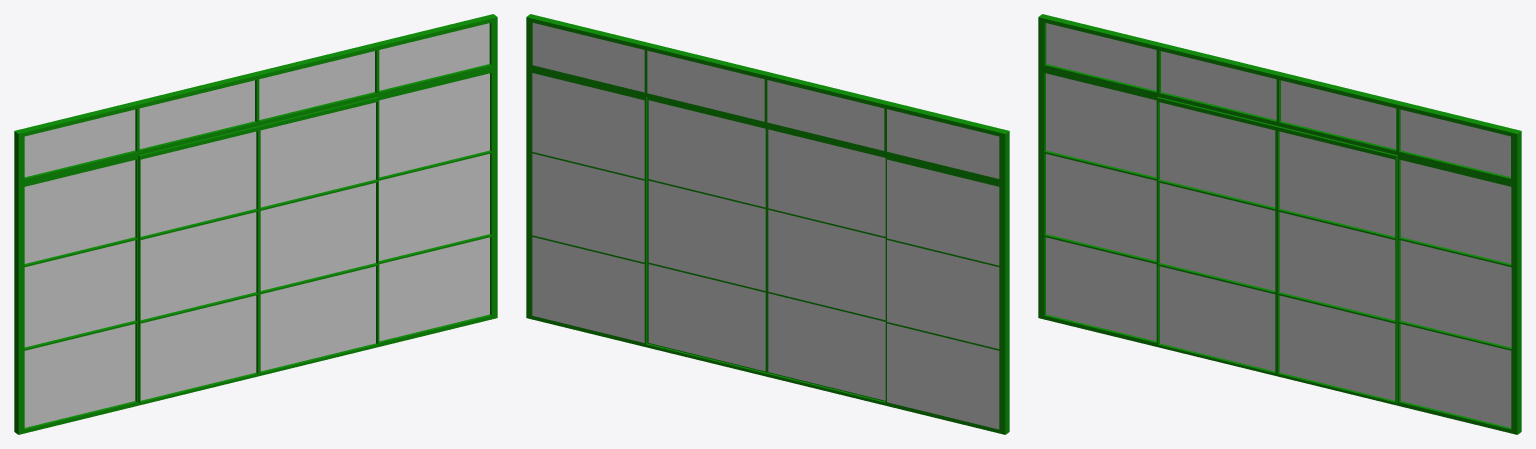
The model's file is janela.fbx.
The picture shows the model from 3 angles, left to right: view 1: azimuth 30°, elevation 25°; view 2: azimuth 150°, elevation 25°; view 3: azimuth 330°, elevation 25°; orthographic projection.
Parts seen in each view (by area): view 1: vidro, borda; view 2: vidro, borda; view 3: vidro, borda.
Boxes of the visible parts, x1,y1,x2,y2 form: vidro: (24,23,489,427); borda: (14,14,497,434); vidro: (532,23,999,429); borda: (526,14,1009,434); vidro: (1046,23,1511,427); borda: (1038,14,1521,434).
Bounding box in the file's own units: 250 × 150 × 4.94.
